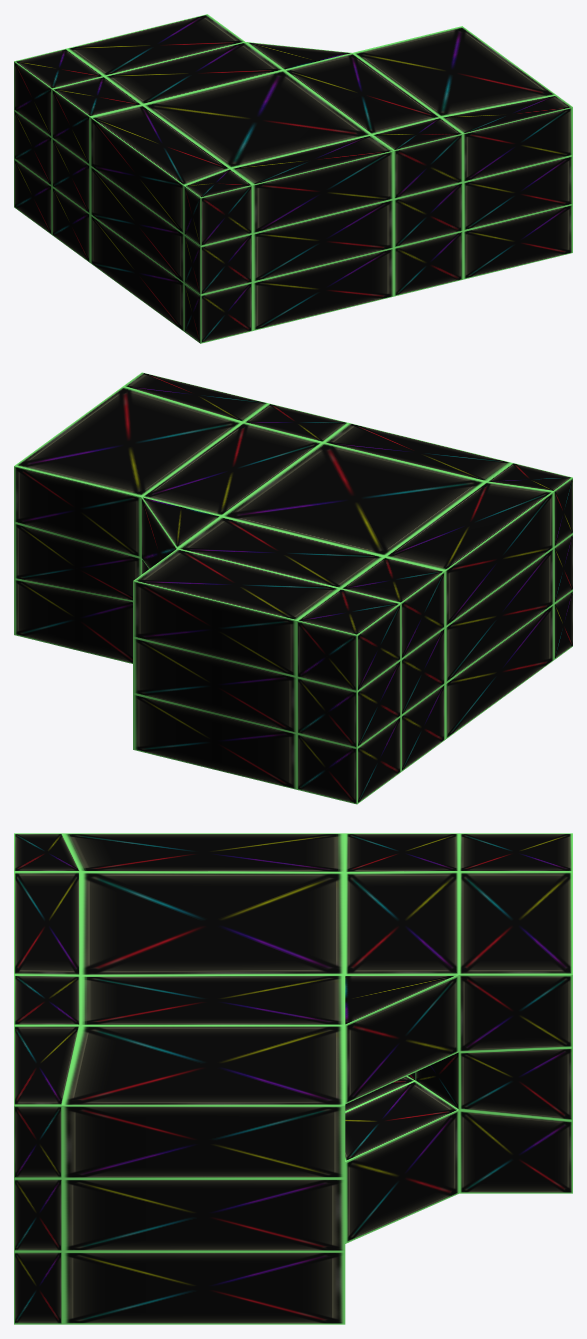
File: bunker_dungeon_repair_shop_physics.DAE
3 views of the same model, one above another, from view 1: azimuth 30°, elevation 25°; view 2: azimuth 150°, elevation 25°; view 3: azimuth 270°, elevation 25° (orthographic). The views are drawn at different scales.
Parts seen in each view (by area): view 1: Box09; view 2: Box09; view 3: Box09.
Boxes of the visible parts, <box> form: Box09: <box>14,14,572,343</box>; Box09: <box>14,372,572,804</box>; Box09: <box>14,833,572,1324</box>.
Bounding box in the file's own units: 117 × 43.99 × 102.
